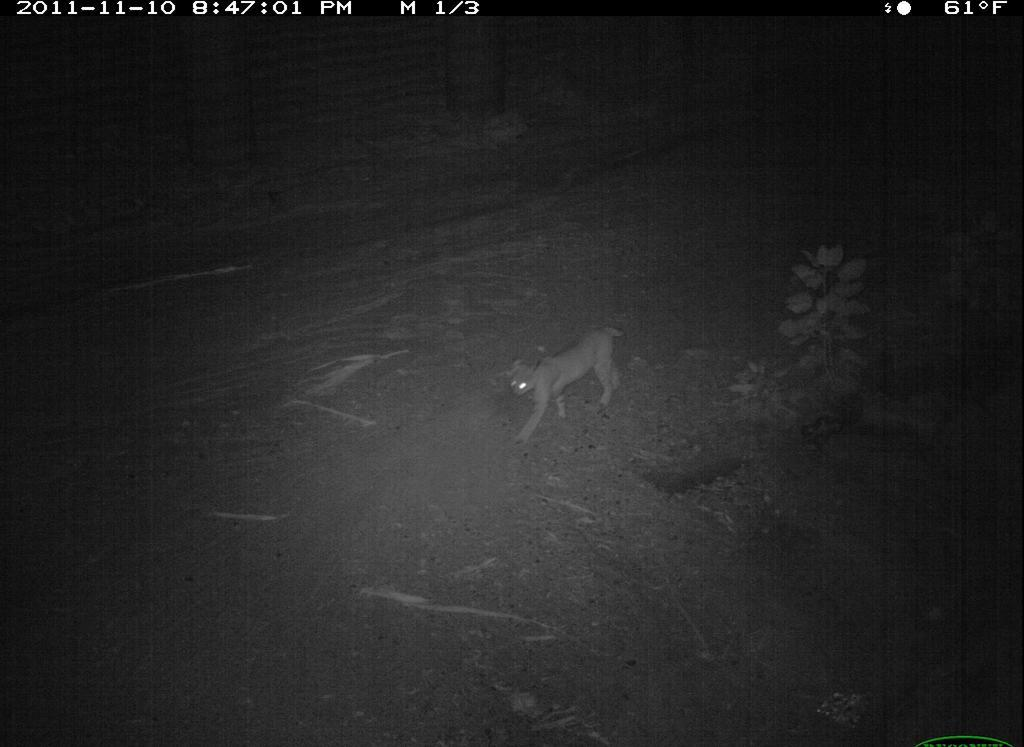bobcat: (502, 321, 629, 455)
